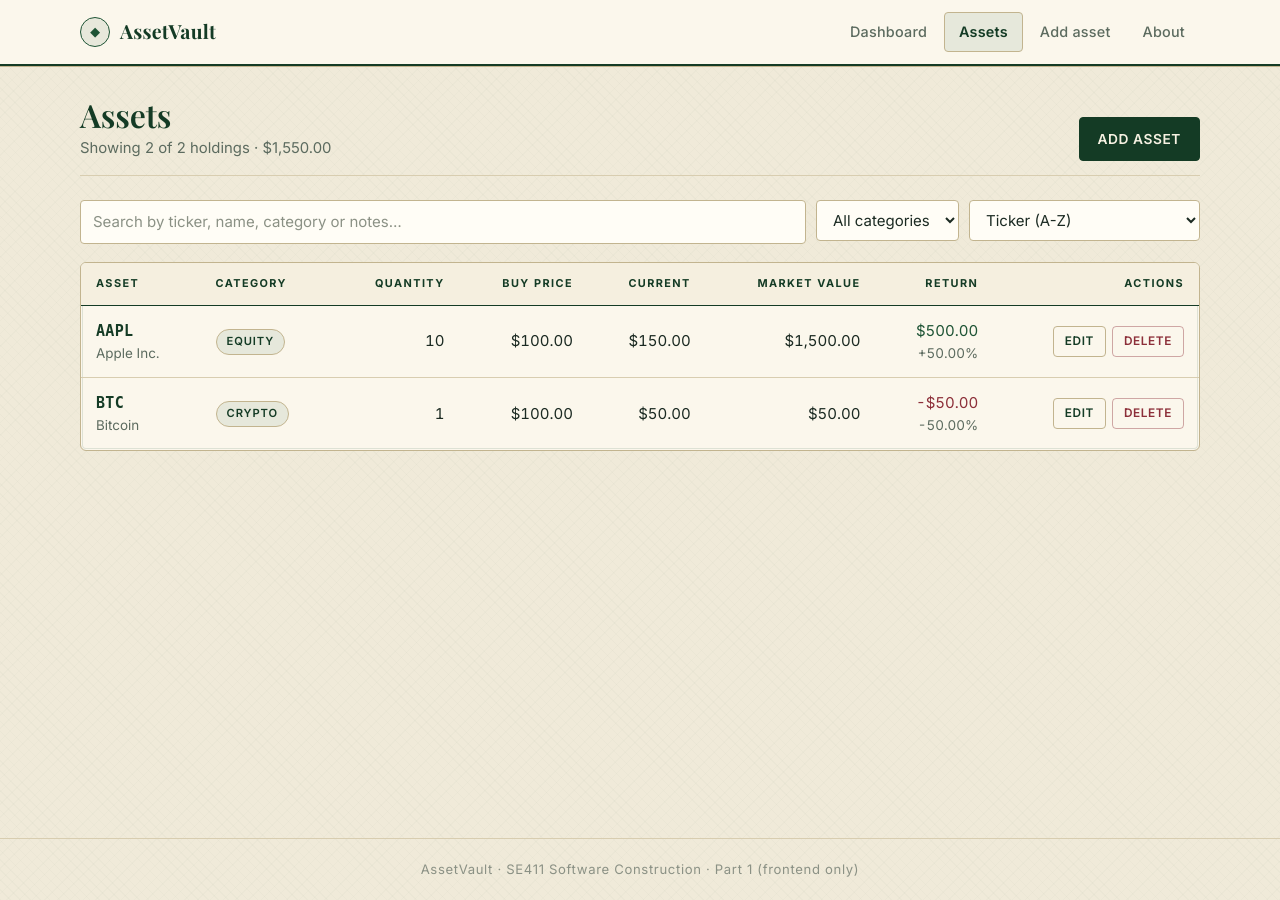
Scenario: deleting an asset › asks for confirmation and can be cancelled
Click the button with aria-label "Delete AAPL" at (1148, 341), box [1112,326,1184,357]
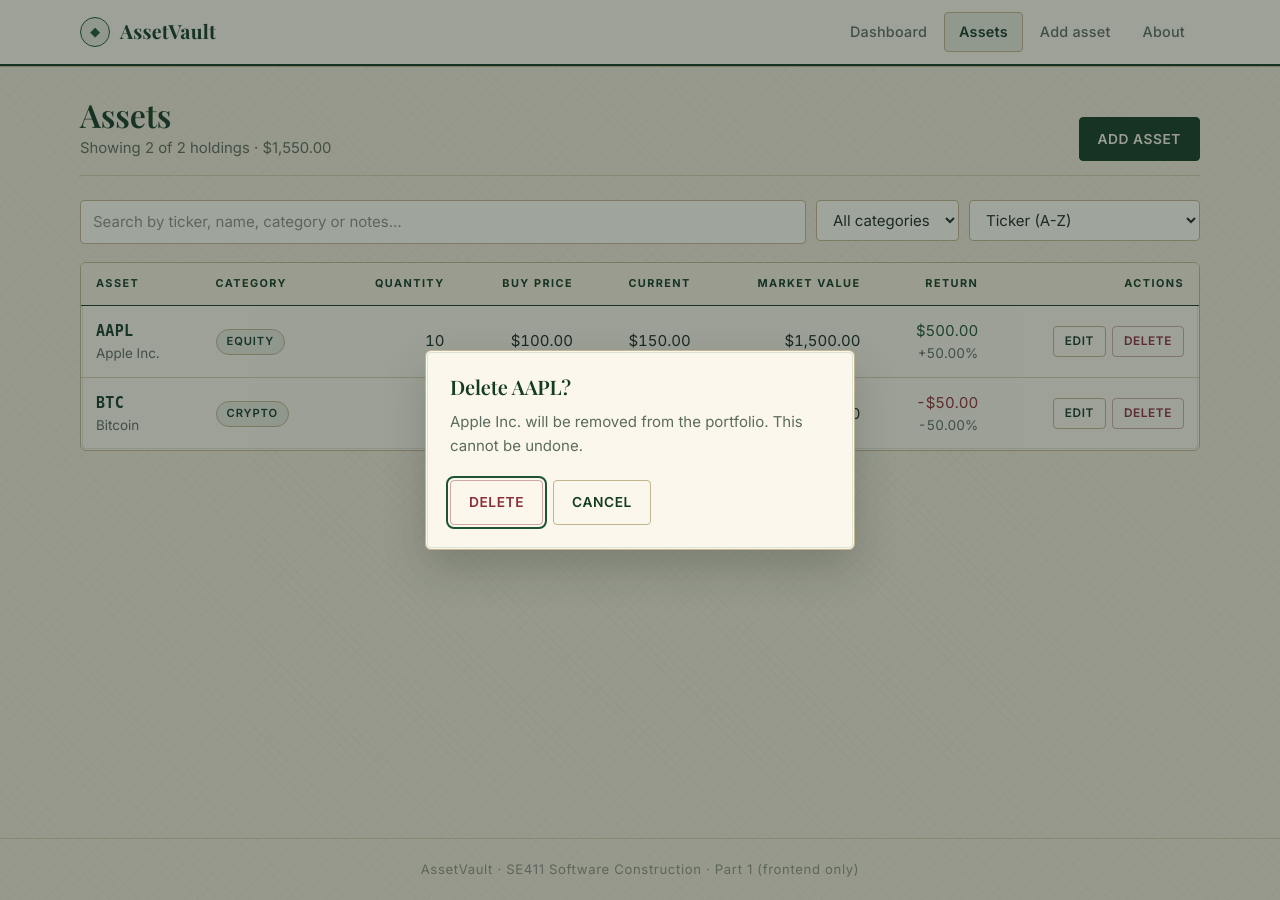
Expected: the dialog is shown, [425,350,855,550]
Click the button "Cancel" at (602, 502), box [553,480,651,524]
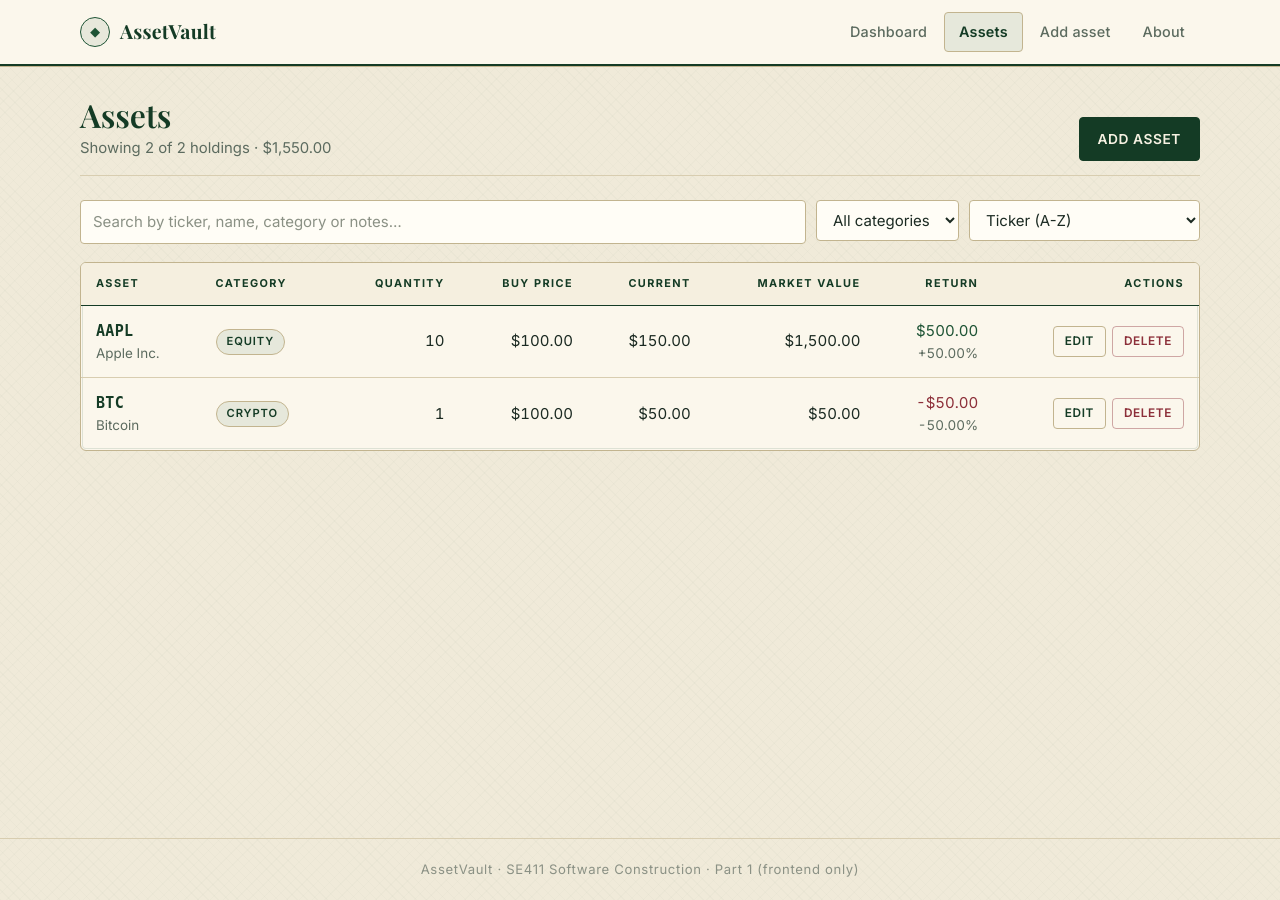
Expected: the text "AAPL" is shown, [96,322,133,340]
Expected: the dialog is gone
